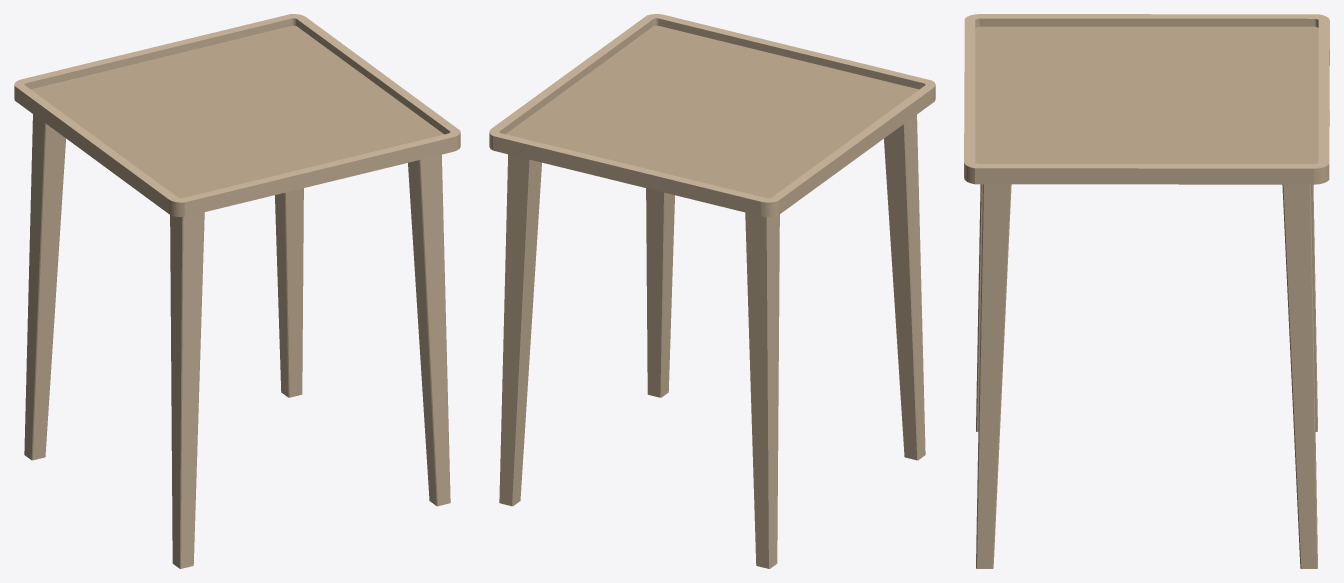
3 renders of one model, left to right at view 1: azimuth 30°, elevation 25°; view 2: azimuth 150°, elevation 25°; view 3: azimuth 270°, elevation 25°, orthographic. The views are drawn at different scales.
Visible parts, largest first — view 1: F009; view 2: F009; view 3: F009.
Part boxes in pixels (bbox=[...]): F009: bbox=[14, 14, 460, 568]; F009: bbox=[489, 14, 935, 568]; F009: bbox=[964, 14, 1329, 568].
Size of the model in its own units: 0.4572 by 0.5588 by 0.4572.
